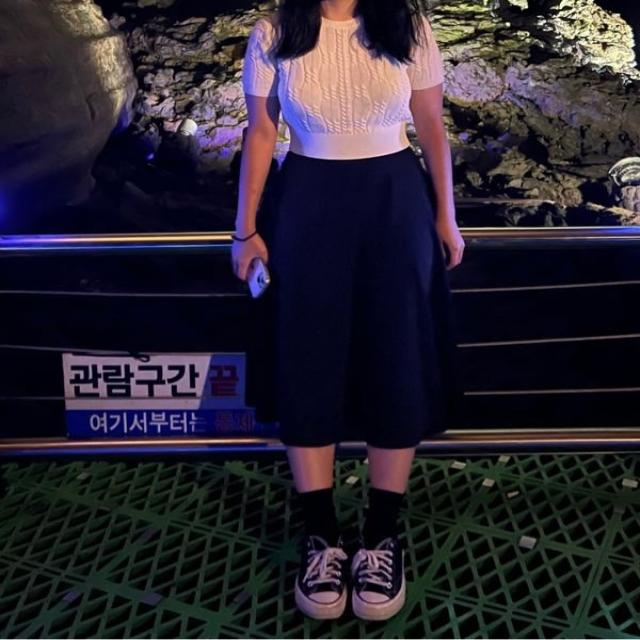shortsleeve: (242, 6, 442, 160)
skirt: (242, 145, 461, 450)
